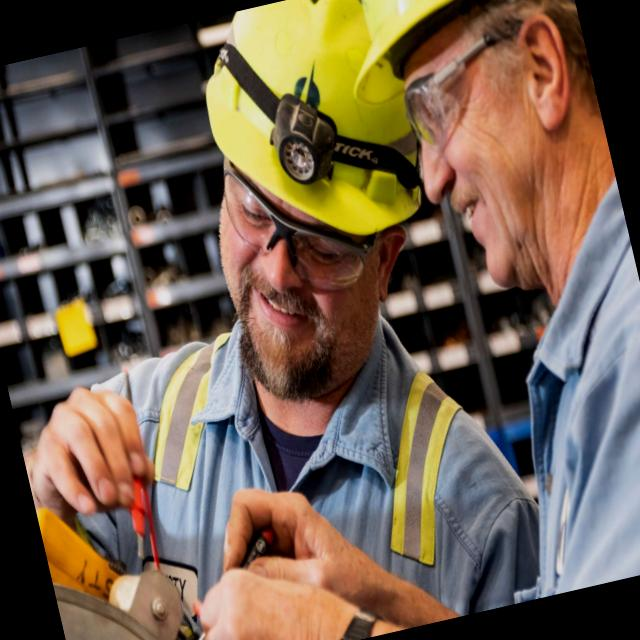goggles: (206, 156, 376, 322), (381, 15, 514, 152)
helmet: (188, 0, 432, 265), (332, 0, 585, 124)
